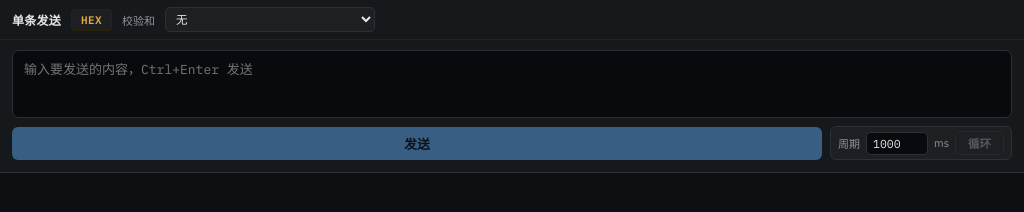
it: SendPane › HEX 格式非法时标红并说明原因，发送按钮禁用
Type "ZZ" into the text box named "发送内容" at (512, 84), box 12,50 -> 1012,118
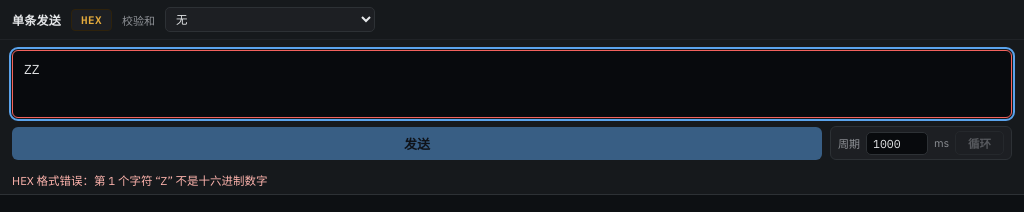
Expected: the button "发送" is disabled, 12,126 -> 822,160
Expected: the message shows "不是十六进制数字", 12,173 -> 268,188
